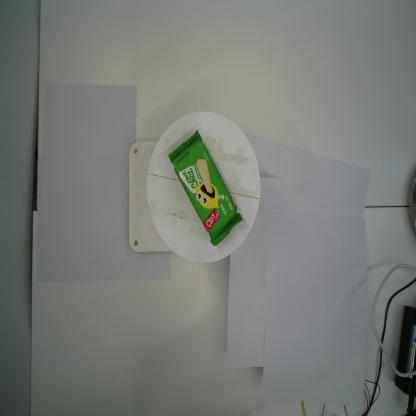Dessert: (167, 129, 244, 248)
